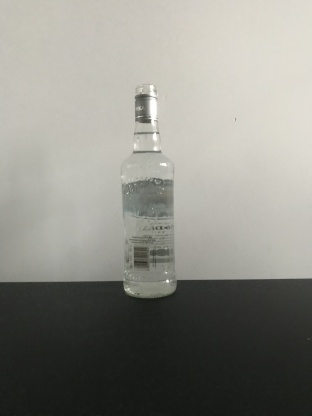nakretka: (133, 81, 159, 123)
